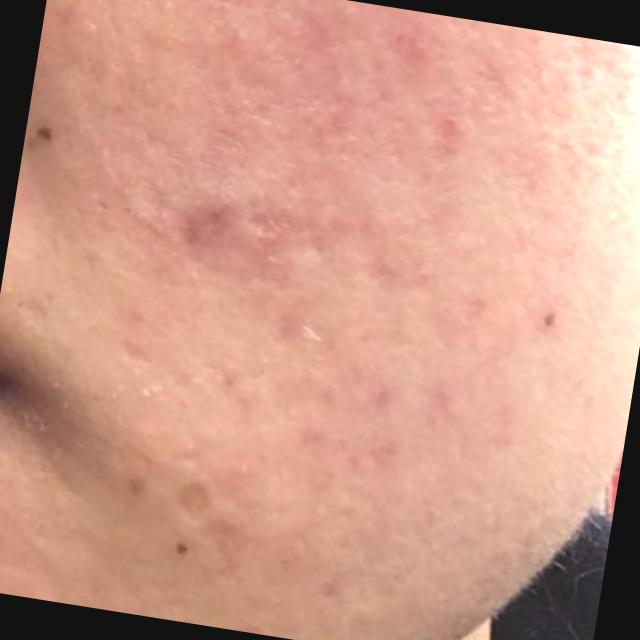blackhead: (36, 126, 54, 140), (544, 313, 556, 328), (176, 542, 188, 555)
